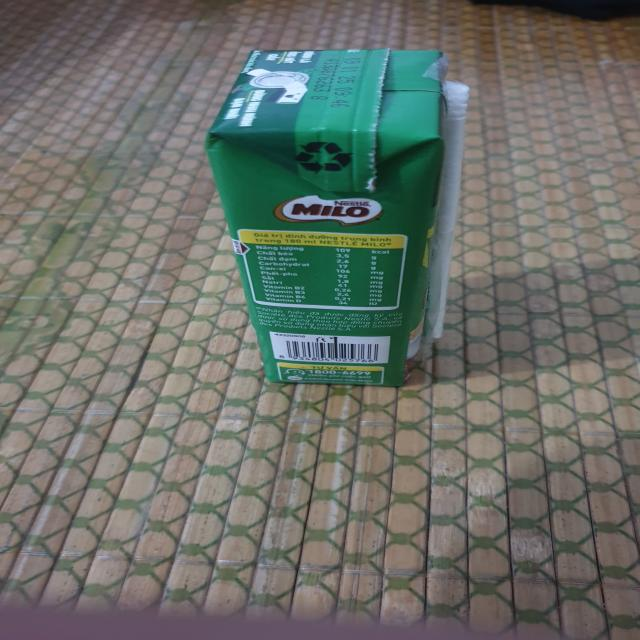Milo: (204, 46, 477, 394)
